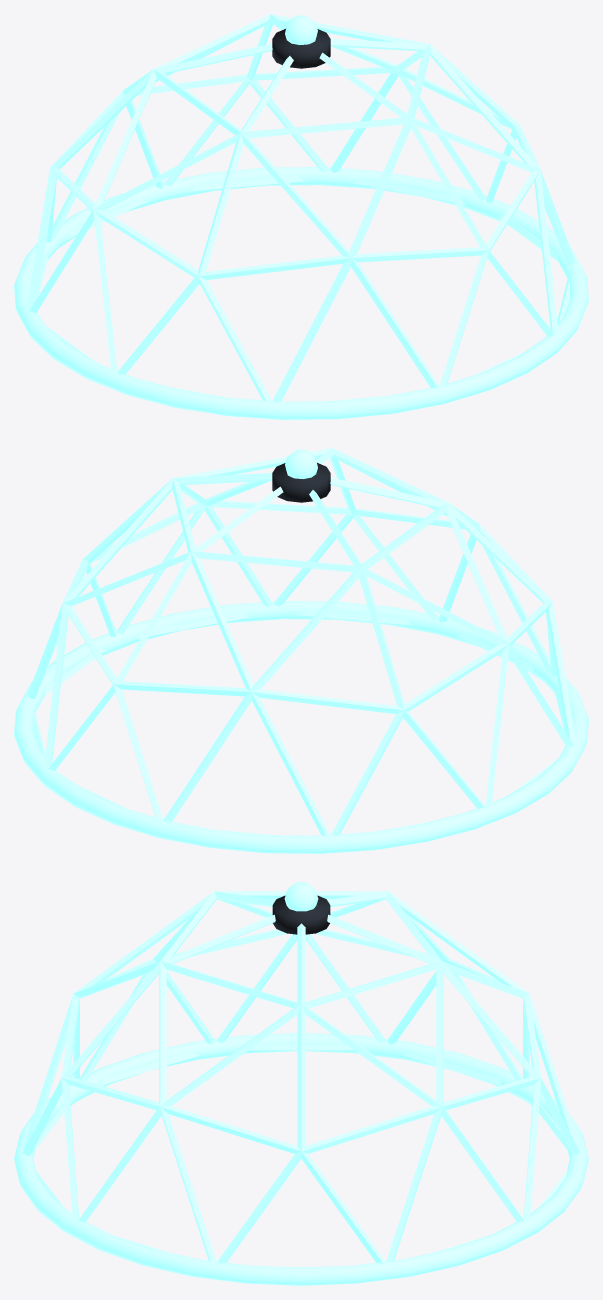
File: Shield.fbx
3 views of the same model, one above another, from view 1: azimuth 30°, elevation 25°; view 2: azimuth 150°, elevation 25°; view 3: azimuth 270°, elevation 25° (orthographic).
Parts seen in each view (by area): view 1: Shield_Dome0, Shield_Base0, Metal_Emitter0, Shield_Node0; view 2: Shield_Dome0, Shield_Base0, Metal_Emitter0, Shield_Node0; view 3: Shield_Dome0, Shield_Base0, Metal_Emitter0, Shield_Node0.
Boxes of the visible parts, x1,y1,x2,y2 form: Shield_Dome0: (26, 14, 575, 402); Shield_Base0: (14, 167, 588, 419); Metal_Emitter0: (272, 29, 330, 68); Shield_Node0: (285, 15, 317, 44); Shield_Dome0: (27, 448, 576, 836); Shield_Base0: (14, 601, 588, 853); Metal_Emitter0: (272, 463, 330, 502); Shield_Node0: (285, 449, 317, 478); Shield_Dome0: (22, 891, 580, 1267); Shield_Base0: (14, 1033, 588, 1285); Metal_Emitter0: (272, 895, 330, 934); Shield_Node0: (284, 882, 318, 911).
Size of the model in its own units: 2.38 by 2.38 by 1.3.
